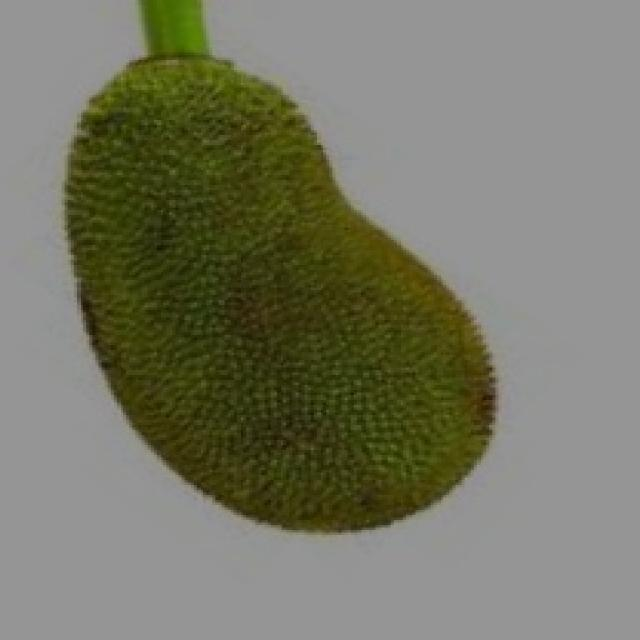Fruit: (142, 137, 526, 555), (34, 32, 452, 340)
